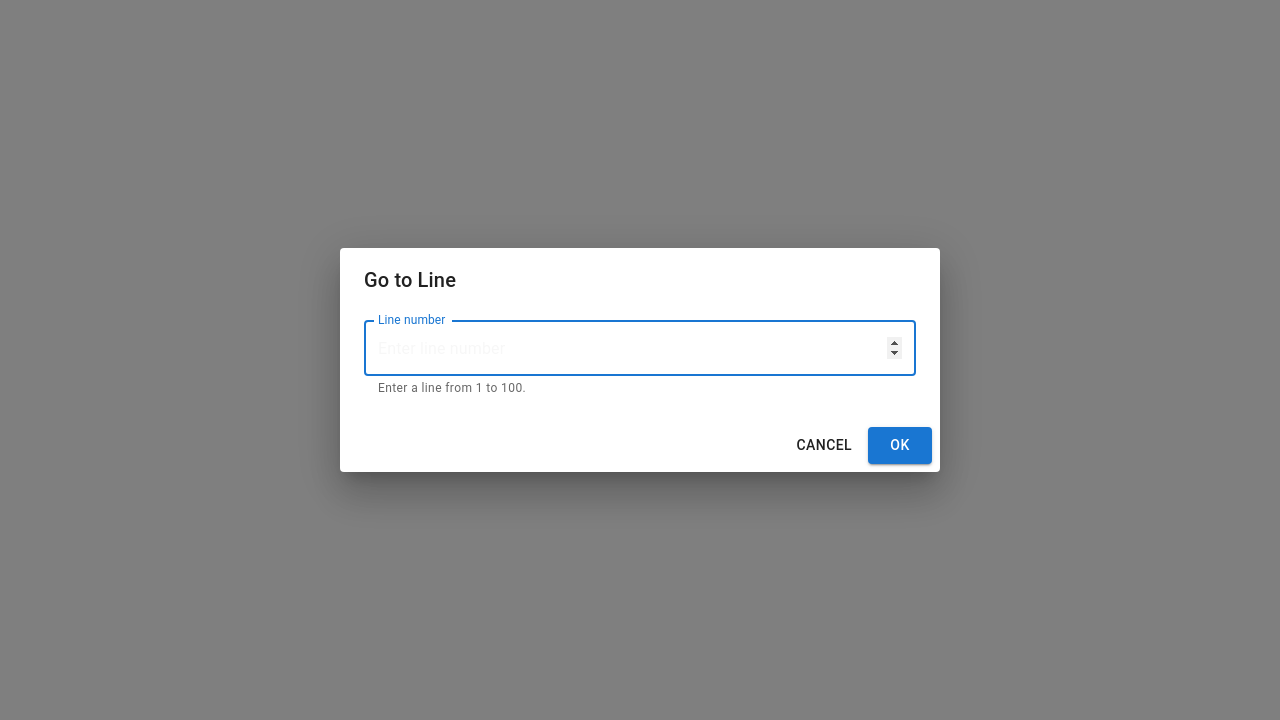
Test: rejects fractional source lines and accepts a valid line through Enter
Later steps or results of the test are not shown.
Type "1.5" into the number field labelled "Line number". click: (640, 348)
box: top-left (364, 320), bottom-right (916, 376)
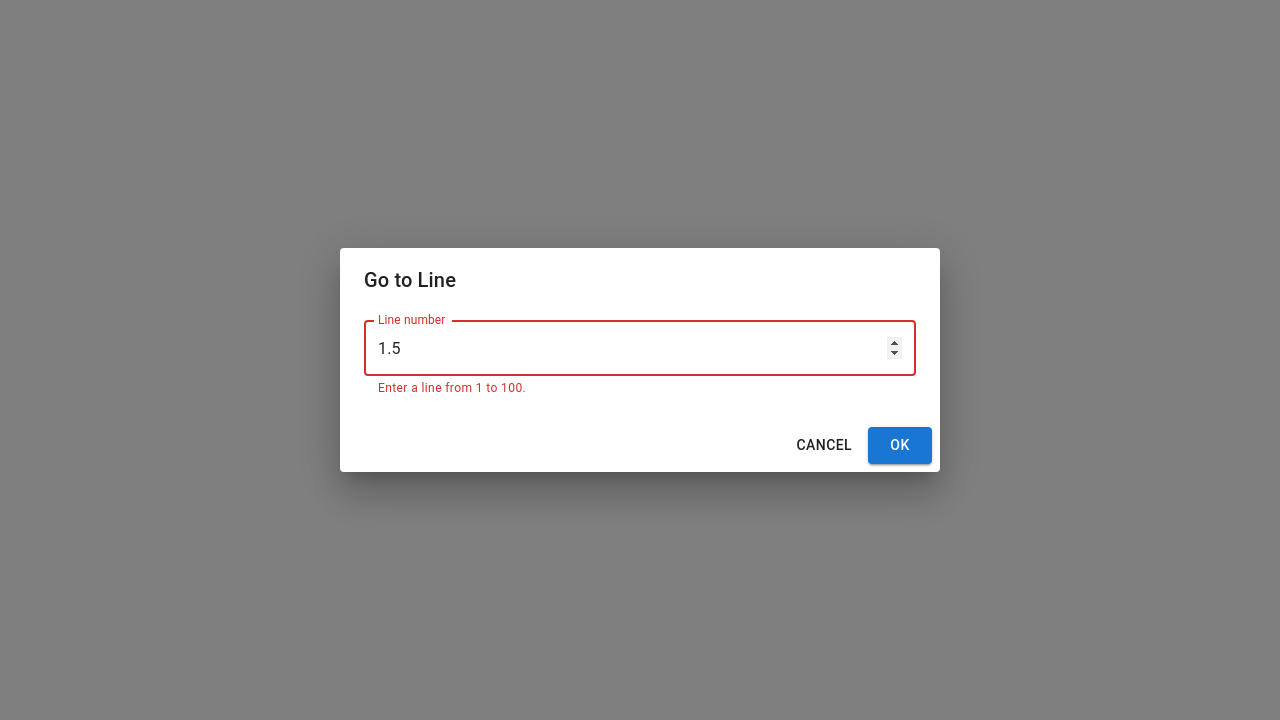
Press Enter in the number field labelled "Line number", box top-left (364, 320), bottom-right (916, 376)
Expected: the number field labelled "Line number" is marked as invalid, top-left (364, 320), bottom-right (916, 376)
